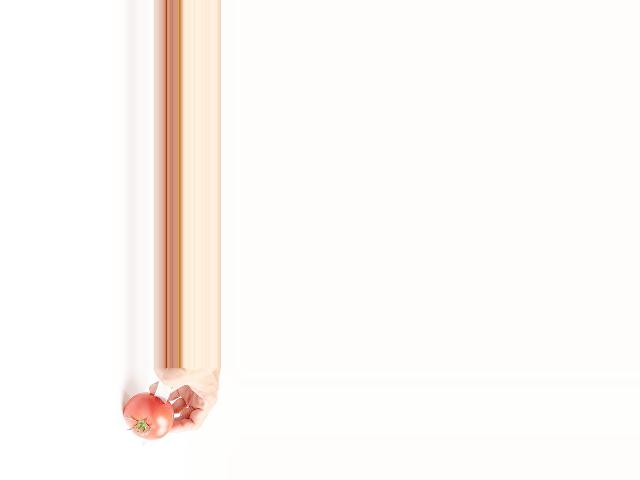tomato: (124, 392, 174, 439)
